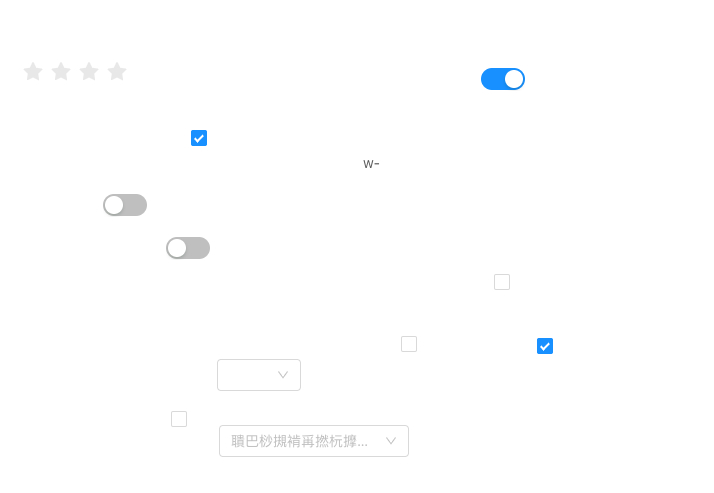Checkbox: (171, 408, 187, 429), (537, 335, 553, 356), (401, 333, 417, 354), (494, 271, 510, 292), (191, 127, 207, 148)
Rate: (23, 55, 143, 87)
Select: (219, 425, 409, 457), (217, 359, 301, 391)
Switch: (481, 67, 525, 91), (166, 236, 210, 260), (103, 193, 147, 217)
Text: (363, 152, 669, 174)
